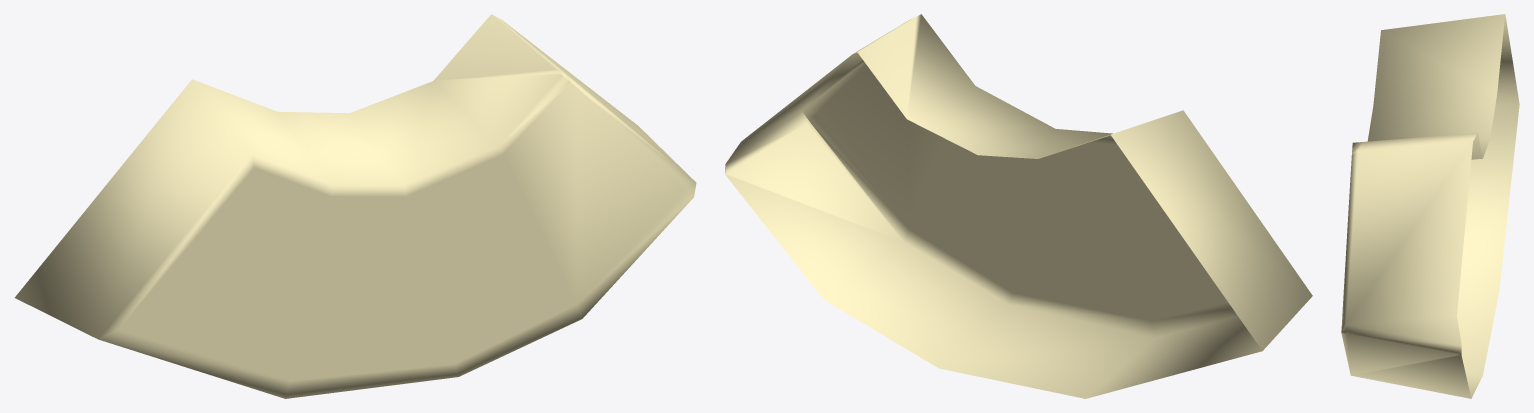
File: ui_radialMenu_inner_4_bottom.glb
The picture shows the model from 3 angles, left to right: view 1: azimuth 30°, elevation 25°; view 2: azimuth 150°, elevation 25°; view 3: azimuth 270°, elevation 25°; orthographic projection. The views are drawn at different scales.
Parts seen in each view (by area): view 1: centerBottom; view 2: centerBottom; view 3: centerBottom.
Part boxes in pixels (x1,y1,x2,y2): centerBottom: (14,14,696,398); centerBottom: (725,14,1312,398); centerBottom: (1341,14,1519,398).
Size of the model in its own units: 0.6171 by 0.305 by 0.1747.
